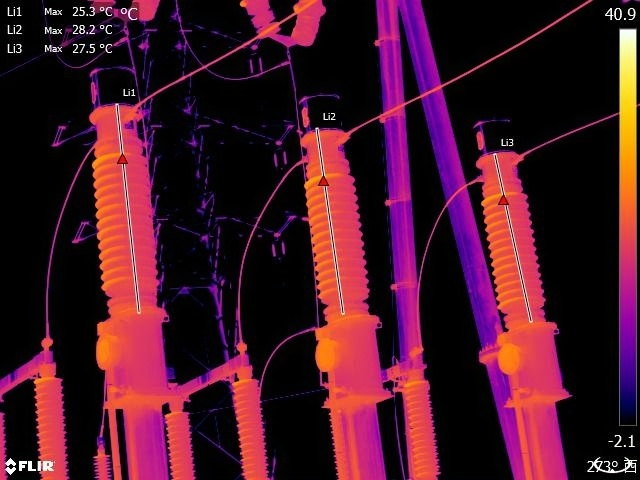current transformer: (290, 83, 394, 404), (81, 64, 175, 402), (469, 112, 573, 393)
insulator: (238, 1, 282, 42), (288, 1, 325, 47), (126, 1, 158, 28)
post insulator: (227, 377, 272, 480), (30, 375, 68, 480), (398, 381, 437, 480), (161, 406, 201, 480)
switch: (160, 349, 260, 411), (1, 331, 57, 402), (384, 354, 433, 388), (114, 33, 136, 48), (274, 58, 296, 71)
